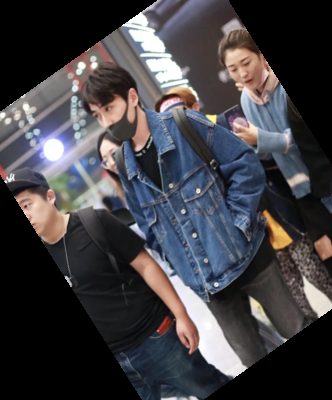mask_weared_incorrect: (74, 60, 154, 146)
